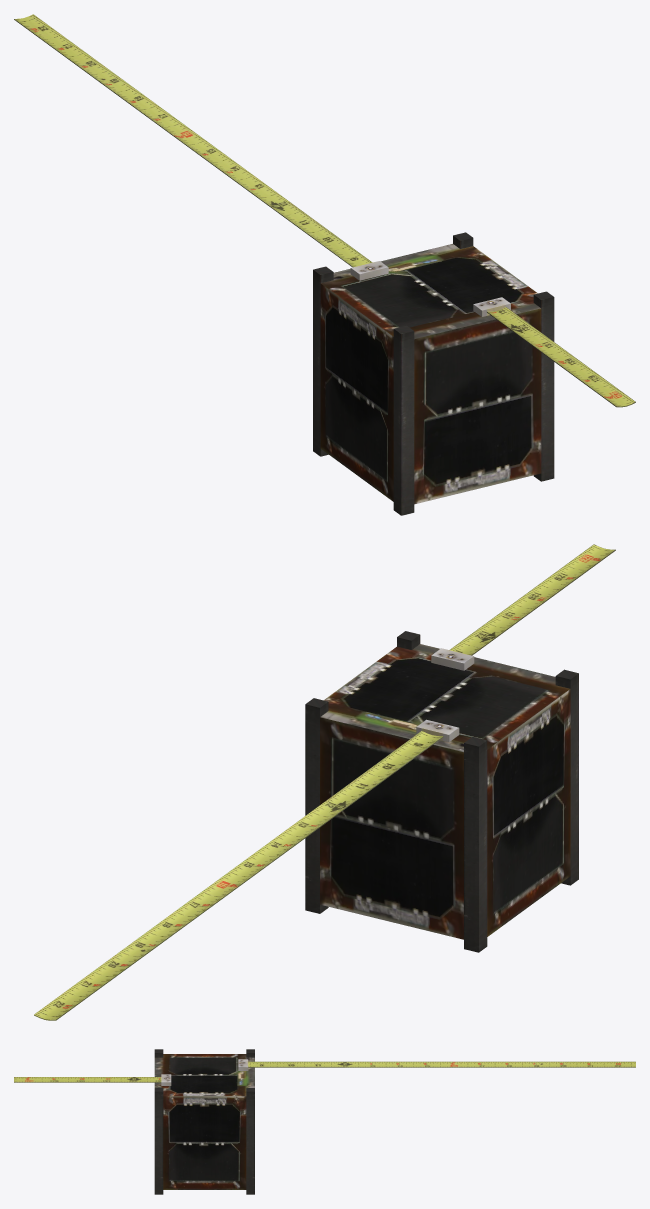
File: mCubed.gltf
The picture shows the model from 3 angles, top to bottom: view 1: azimuth 30°, elevation 25°; view 2: azimuth 150°, elevation 25°; view 3: azimuth 270°, elevation 25°; orthographic projection. The views are drawn at different scales.
Parts seen in each view (by area): view 1: M-Cubed, Antenna; view 2: M-Cubed, Antenna; view 3: M-Cubed, Antenna.
Boxes of the visible parts, bbox=[...] form: M-Cubed: bbox=[313, 232, 554, 515]; Antenna: bbox=[14, 14, 635, 407]; M-Cubed: bbox=[305, 631, 578, 952]; Antenna: bbox=[34, 544, 615, 1020]; M-Cubed: bbox=[154, 1049, 254, 1194]; Antenna: bbox=[14, 1061, 635, 1082].
Size of the model in its own units: 0.1 by 0.1135 by 0.6208.
1 material, 1 textured.
